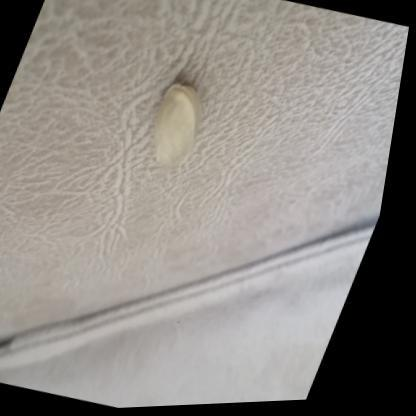pistachio: (149, 77, 198, 166)
